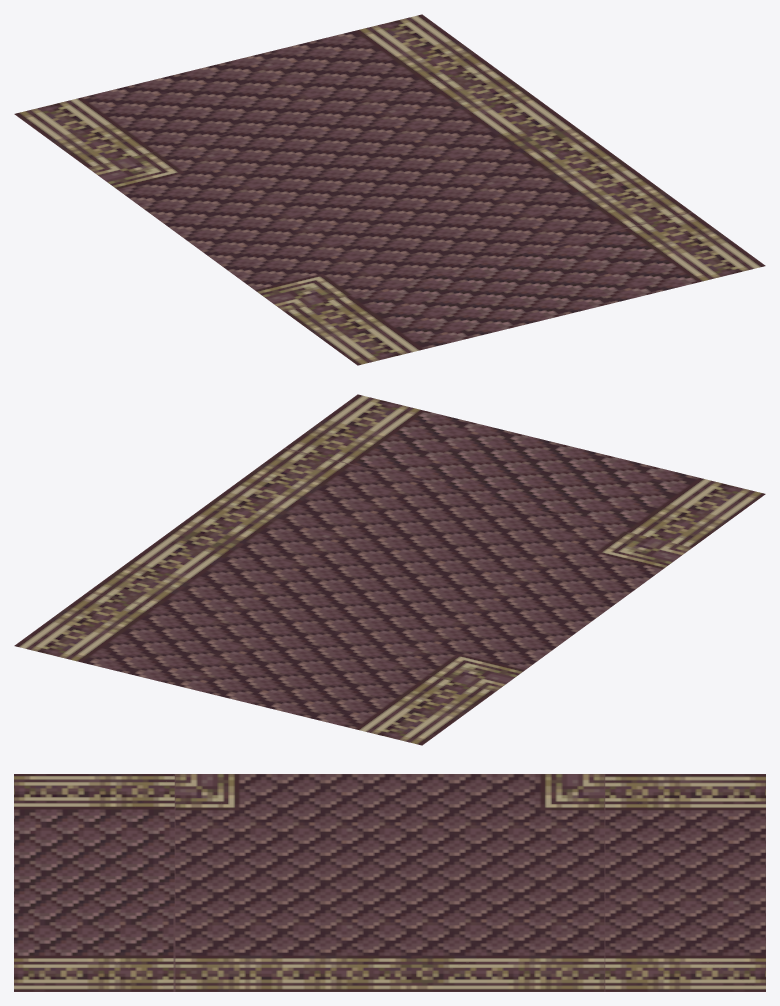
Rendered from EnvMdrMD_Castle_A_GrdCpt_Junction_FR_Uniquie_A.FBX.
3 renders of one model, top to bottom at view 1: azimuth 30°, elevation 25°; view 2: azimuth 150°, elevation 25°; view 3: azimuth 270°, elevation 25°, orthographic. The views are drawn at different scales.
Visible parts, largest first — view 1: EnvMdrMD_Castle_A_GrdCpt_Junction_FR_Uniquie_A; view 2: EnvMdrMD_Castle_A_GrdCpt_Junction_FR_Uniquie_A; view 3: EnvMdrMD_Castle_A_GrdCpt_Junction_FR_Uniquie_A.
Part boxes in pixels (x1,y1,x2,y2): EnvMdrMD_Castle_A_GrdCpt_Junction_FR_Uniquie_A: (14, 14, 765, 365); EnvMdrMD_Castle_A_GrdCpt_Junction_FR_Uniquie_A: (14, 394, 765, 745); EnvMdrMD_Castle_A_GrdCpt_Junction_FR_Uniquie_A: (14, 774, 765, 991).
Size of the model in its own units: 480 by 8.37e-22 by 700.
1 material, 1 textured.
